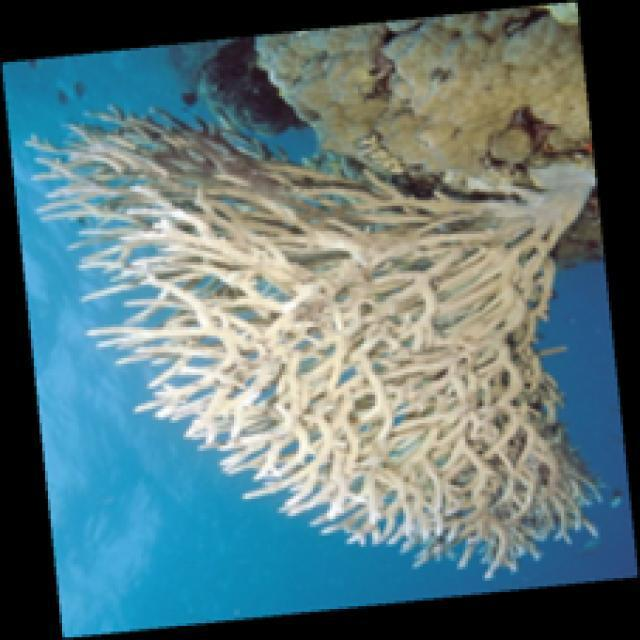Bleached: (23, 108, 601, 584), (252, 1, 596, 190)
